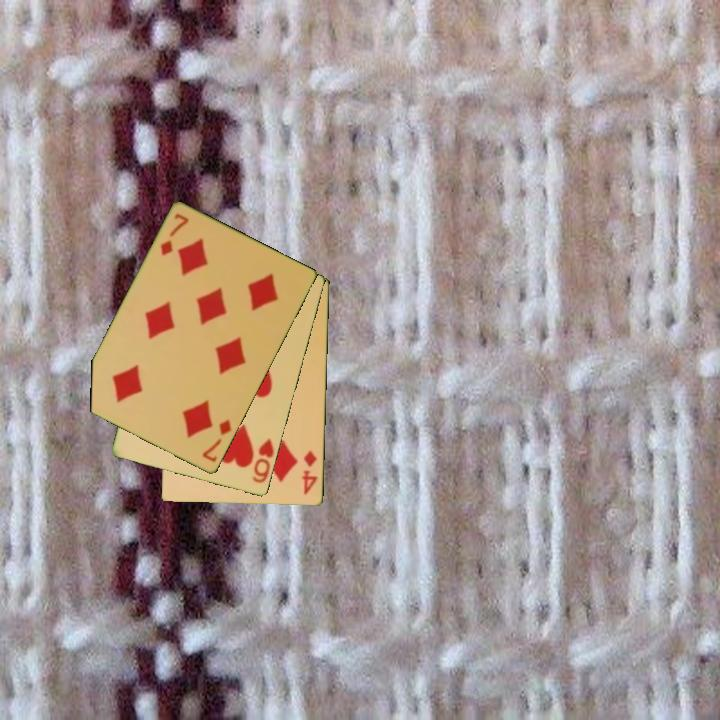4d: (298, 447, 321, 498)
6h: (249, 435, 277, 486)
7d: (199, 416, 235, 465), (157, 210, 192, 259)
